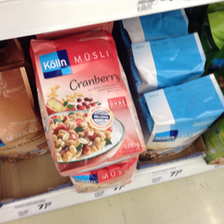cereal: (31, 36, 147, 171)
